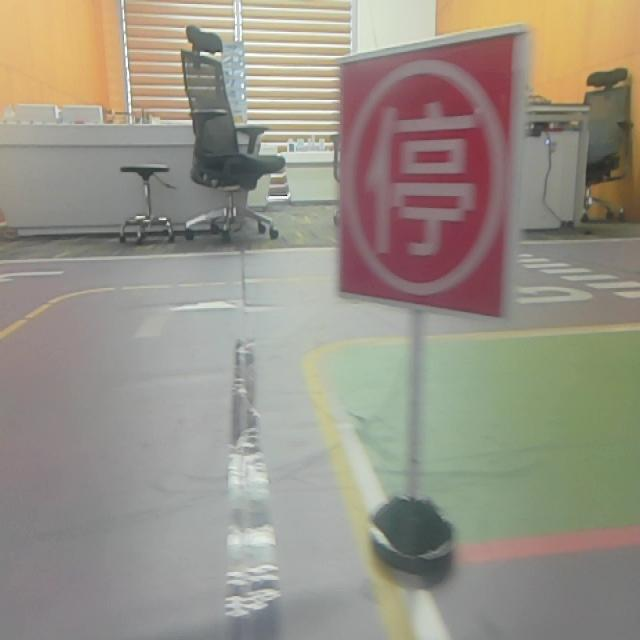left_lane: (0, 291, 64, 343)
right_lane: (305, 365, 450, 638)
